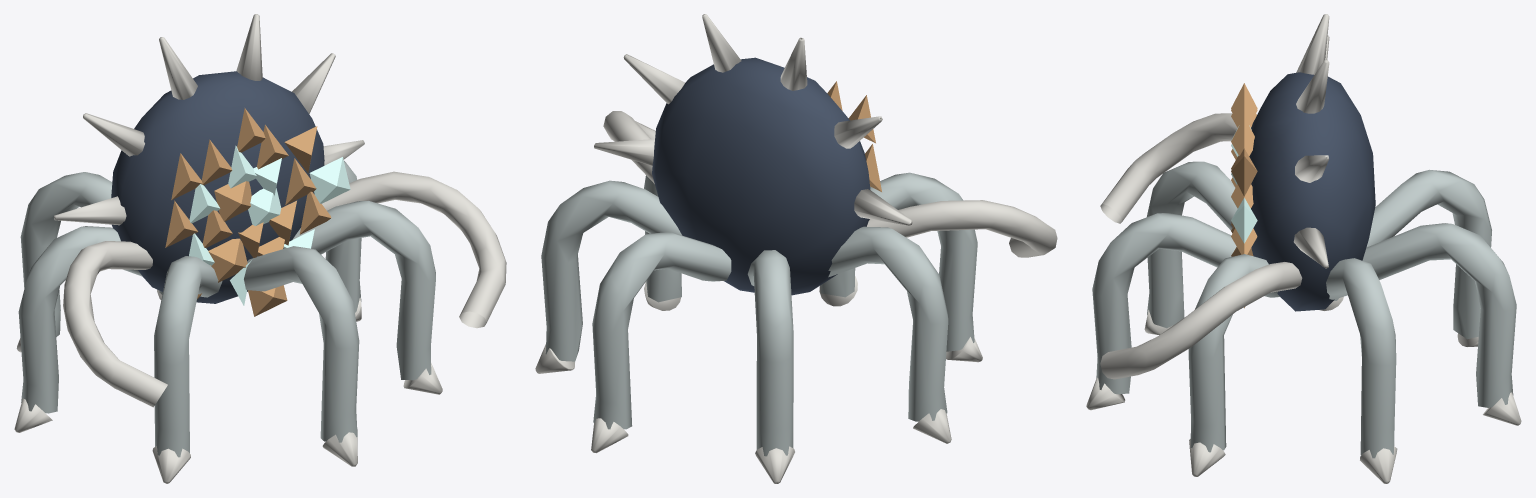
Rendered from bio_crown_stalker_07_far.glb.
The picture shows the model from 3 angles, left to right: view 1: azimuth 30°, elevation 25°; view 2: azimuth 150°, elevation 25°; view 3: azimuth 270°, elevation 25°; orthographic projection. The views are drawn at different scales.
Parts seen in each view (by area): view 1: Faceted crown substrate, Compound lens facet.001, Crooked support.004, Crooked support.005, Crooked support.003, Scythe sensory limb.001, Crooked support.002, Scythe sensory limb, Crown radiating blade, Compound lens facet, Crooked support.001, Crooked support.006 (+4 smaller); view 2: Faceted crown substrate, Crooked support, Crooked support.006, Crooked support.002, Crooked support.001, Crown radiating blade, Crooked support.003, Scythe sensory limb, Scythe sensory limb.001, Crooked support.005, Compound lens facet.001, Contact spur.001 (+4 smaller); view 3: Faceted crown substrate, Crooked support, Crooked support.004, Crooked support.006, Crooked support.001, Scythe sensory limb.001, Crooked support.003, Crooked support.005, Scythe sensory limb, Crown radiating blade, Compound lens facet.001, Contact spur.006 (+4 smaller).
Part boxes in pixels (x1,y1,x2,y2): Faceted crown substrate: (111, 71, 324, 303); Compound lens facet.001: (165, 108, 331, 316); Crooked support.004: (244, 246, 359, 442); Crooked support.005: (292, 201, 435, 380); Crooked support.003: (154, 256, 222, 457); Scythe sensory limb.001: (322, 171, 506, 328); Crooked support.002: (18, 226, 142, 413); Scythe sensory limb: (63, 241, 167, 407); Crown radiating blade: (54, 14, 364, 225); Compound lens facet: (189, 145, 350, 305); Crooked support.001: (20, 172, 112, 336); Crooked support.006: (325, 161, 361, 312); Faceted crown substrate: (652, 57, 870, 295); Crooked support: (592, 232, 731, 429); Crooked support.006: (541, 180, 681, 361); Crooked support.002: (828, 226, 948, 421); Crooked support.001: (747, 250, 793, 456); Crown radiating blade: (594, 14, 912, 225); Crooked support.003: (870, 172, 977, 351); Scythe sensory limb: (866, 200, 1057, 257); Scythe sensory limb.001: (603, 111, 655, 183); Crooked support.005: (644, 175, 681, 302); Compound lens facet.001: (827, 81, 881, 191); Contact spur.001: (755, 446, 794, 483); Faceted crown substrate: (1249, 72, 1375, 311); Crooked support: (1362, 223, 1516, 407); Crooked support.004: (1092, 213, 1236, 394); Crooked support.006: (1326, 258, 1396, 458); Crooked support.001: (1366, 169, 1491, 339); Scythe sensory limb.001: (1100, 262, 1302, 379); Crooked support.003: (1147, 161, 1237, 328); Crooked support.005: (1188, 254, 1279, 452); Scythe sensory limb: (1100, 113, 1237, 223); Crown radiating blade: (1293, 14, 1329, 268); Compound lens facet.001: (1231, 83, 1257, 308); Contact spur.006: (1360, 446, 1397, 483).
Bounding box in the file's own units: 2.59 × 2.11 × 2.32.
